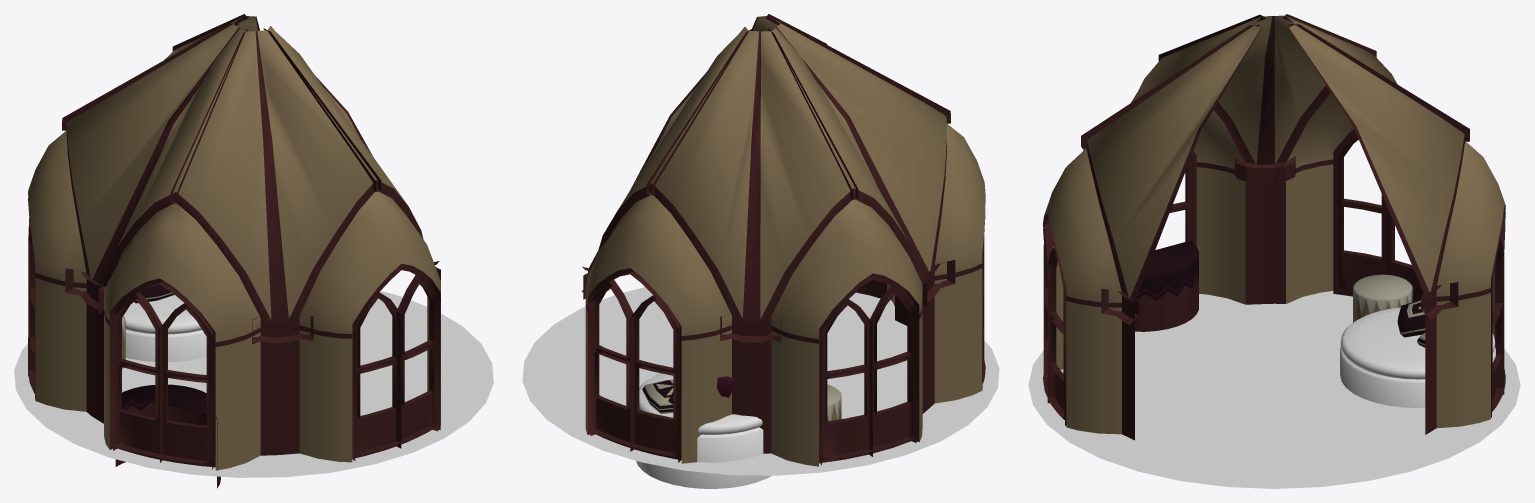
File: room.fbx
3 views of the same model, side by side, from view 1: azimuth 30°, elevation 25°; view 2: azimuth 150°, elevation 25°; view 3: azimuth 270°, elevation 25° (orthographic). The views are drawn at different scales.
Parts seen in each view (by area): view 1: Cube, Circle, Cube.005, Cylinder, Cylinder.001; view 2: Cube, Circle, Cylinder, Cylinder.001, Cube.002; view 3: Cube, Circle, Cube.005, Cylinder.001, Cylinder, Cylinder.002, Cube.001.
Part boxes in pixels (x1,y1,x2,y2): Cube: [28, 14, 440, 470]; Circle: [14, 291, 493, 477]; Cube.005: [115, 384, 220, 488]; Cylinder: [125, 330, 206, 361]; Cylinder.001: [123, 295, 201, 334]; Cube: [582, 14, 985, 466]; Circle: [522, 287, 999, 475]; Cylinder: [636, 427, 771, 488]; Cylinder.001: [639, 373, 762, 434]; Cube.002: [642, 379, 673, 413]; Cube: [1043, 14, 1505, 440]; Circle: [1028, 291, 1520, 488]; Cube.005: [1135, 241, 1198, 331]; Cylinder.001: [1340, 307, 1495, 379]; Cylinder: [1340, 347, 1495, 407]; Cylinder.002: [1353, 274, 1412, 322]; Cube.001: [1397, 300, 1425, 337].
Size of the model in its own units: 16.44 by 16.44 by 14.32.
